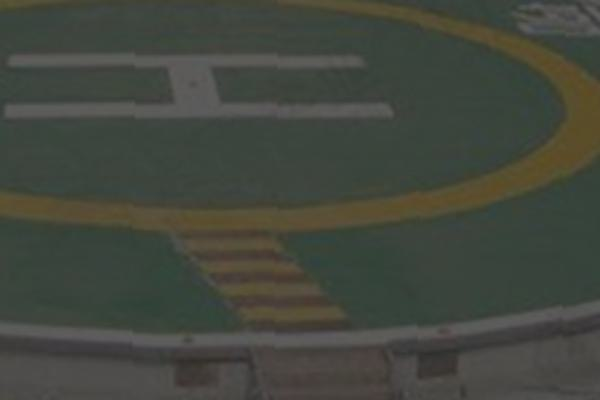Apron: (1, 5, 600, 236)
